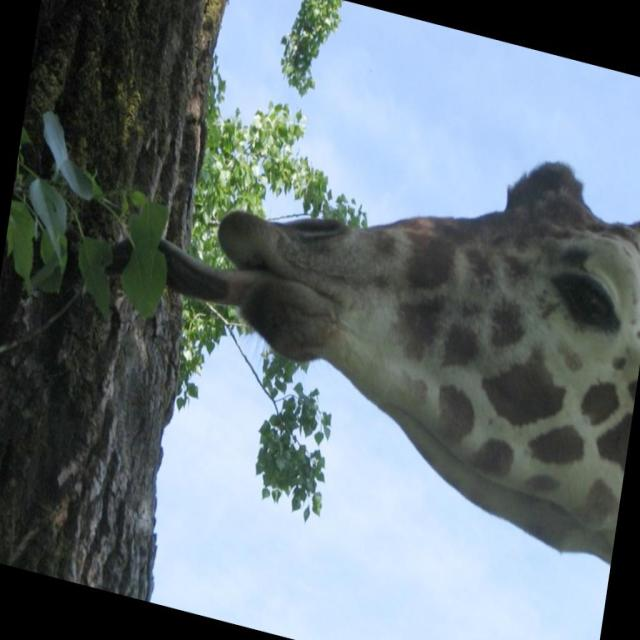Giraffe: (181, 157, 640, 564)
